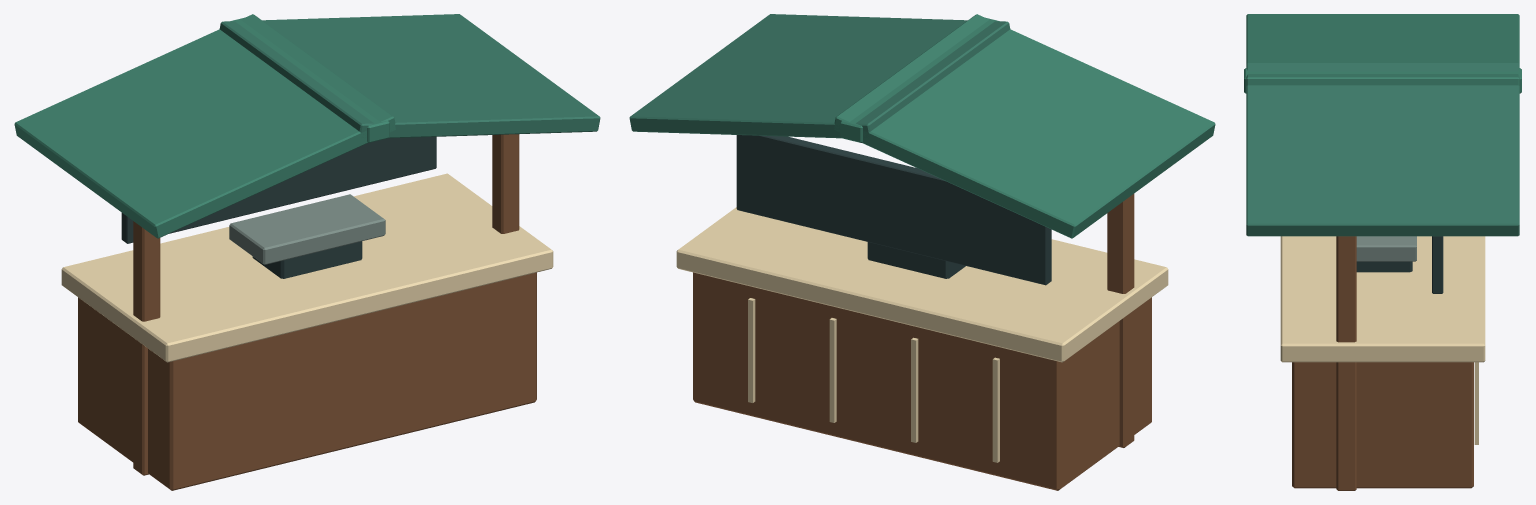
File: workshop_stall.fbx
3 views of the same model, side by side, from view 1: azimuth 30°, elevation 25°; view 2: azimuth 150°, elevation 25°; view 3: azimuth 270°, elevation 25° (orthographic). The views are drawn at different scales.
Visible parts, largest first — view 1: Counter.001, RoofLeft.002, Countertop.001, RoofRight.002, ShopSign.001, AnvilTop, Upright.002, Upright.003, Anvil, RoofRidge.002; view 2: Counter.001, RoofLeft.002, Countertop.001, RoofRight.002, ShopSign.001, Upright.002, Anvil, RoofRidge.002, CounterPanel.004, CounterPanel.005, CounterPanel.006, CounterPanel.007; view 3: RoofRight.002, Countertop.001, Counter.001, RoofLeft.002, Upright.003, AnvilTop, RoofRidge.002, ShopSign.001, Anvil, CounterPanel.007.
Part boxes in pixels (x1,y1,x2,y2): Counter.001: (78,272,536,490); RoofLeft.002: (14,14,395,238); Countertop.001: (61,173,553,362); RoofRight.002: (219,14,600,138); ShopSign.001: (121,136,436,243); AnvilTop: (229,194,385,264); Upright.002: (133,221,160,475); Upright.003: (492,134,519,233); Anvil: (252,241,362,278); RoofRidge.002: (230,17,389,142); Counter.001: (693,272,1151,490); RoofLeft.002: (834,14,1215,238); Countertop.001: (676,207,1168,362); RoofRight.002: (629,14,1010,138); ShopSign.001: (736,135,1051,285); Upright.002: (1107,194,1134,447); Anvil: (867,242,965,278); RoofRidge.002: (840,17,999,142); CounterPanel.004: (992,357,999,462); CounterPanel.005: (911,337,918,442); CounterPanel.006: (829,318,836,422); CounterPanel.007: (748,298,755,402); RoofRight.002: (1246,63,1519,236); Countertop.001: (1280,236,1485,362); Counter.001: (1292,362,1473,488); RoofLeft.002: (1246,14,1519,85); Upright.003: (1336,236,1356,490); AnvilTop: (1356,236,1416,261); RoofRidge.002: (1244,68,1521,93); ShopSign.001: (1432,236,1443,293); Anvil: (1356,261,1412,272); CounterPanel.007: (1474,362,1478,444).
Bounding box in the file's own units: 1094 × 806 × 610.
